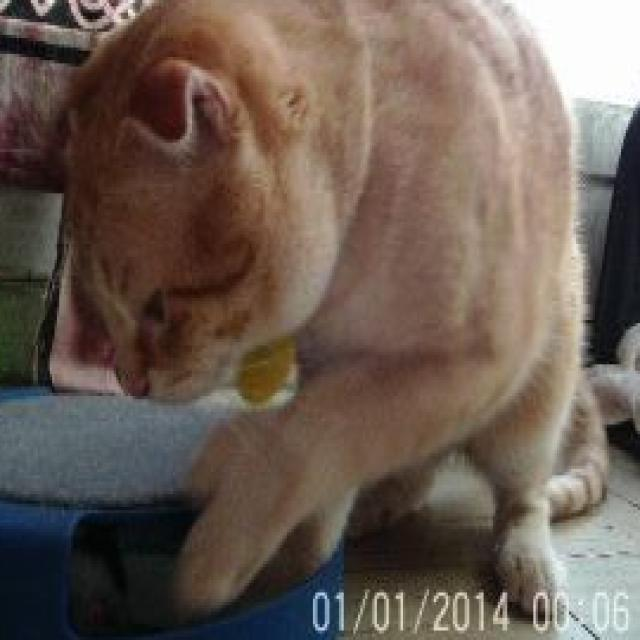Scottish Fold: (45, 0, 612, 621)
